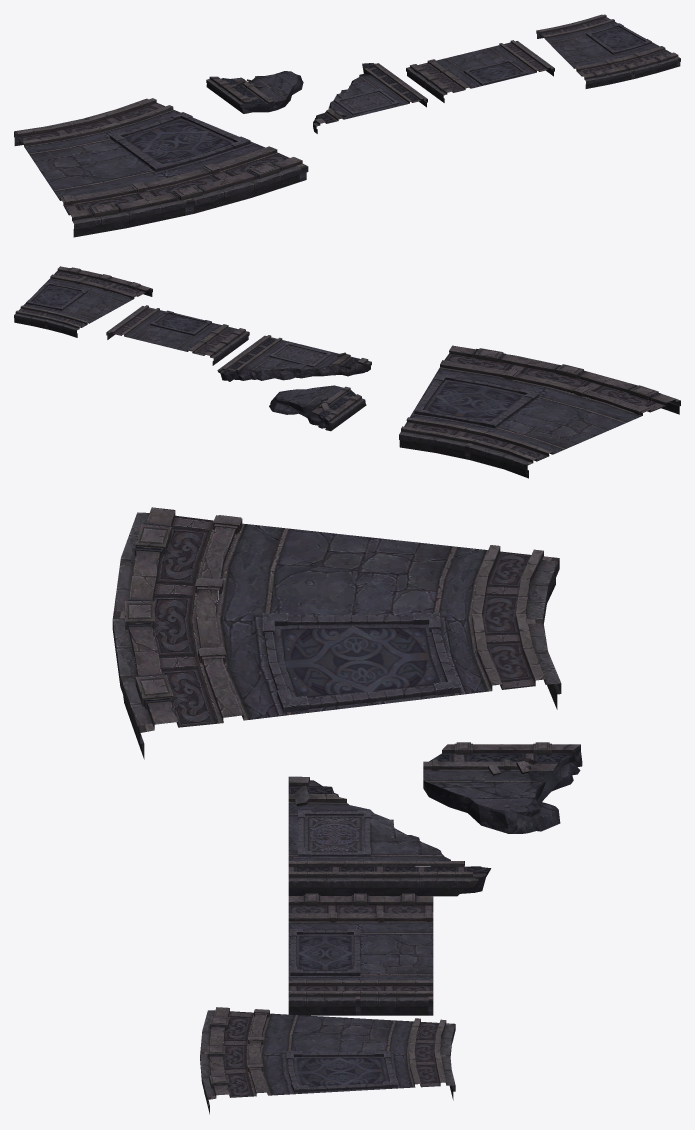
File: 2_BTT_HuanXingDiBiao_03.FBX
3 views of the same model, one above another, from view 1: azimuth 30°, elevation 25°; view 2: azimuth 150°, elevation 25°; view 3: azimuth 270°, elevation 25° (orthographic). The views are drawn at different scales.
Visible parts, largest first — view 1: 2_BTT_HuanXingDiBiao_03, 2_BTT_HuanXingDiBiao_03_02, 2_BTT_HuanXingDiBiao_03_03, 2_BTT_HuanXingDiBiao_03_04, 2_BTT_HuanXingDiBiao_03_05; view 2: 2_BTT_HuanXingDiBiao_03, 2_BTT_HuanXingDiBiao_03_02, 2_BTT_HuanXingDiBiao_03_04, 2_BTT_HuanXingDiBiao_03_03, 2_BTT_HuanXingDiBiao_03_05; view 3: 2_BTT_HuanXingDiBiao_03, 2_BTT_HuanXingDiBiao_03_02, 2_BTT_HuanXingDiBiao_03_03, 2_BTT_HuanXingDiBiao_03_04, 2_BTT_HuanXingDiBiao_03_05.
Part boxes in pixels (box(x1,y1,x2,y2)): 2_BTT_HuanXingDiBiao_03: box(14, 98, 308, 237); 2_BTT_HuanXingDiBiao_03_02: box(536, 14, 680, 88); 2_BTT_HuanXingDiBiao_03_03: box(406, 40, 554, 102); 2_BTT_HuanXingDiBiao_03_04: box(313, 63, 427, 133); 2_BTT_HuanXingDiBiao_03_05: box(206, 71, 303, 113); 2_BTT_HuanXingDiBiao_03: box(399, 345, 680, 478); 2_BTT_HuanXingDiBiao_03_02: box(14, 266, 152, 337); 2_BTT_HuanXingDiBiao_03_04: box(217, 335, 371, 381); 2_BTT_HuanXingDiBiao_03_03: box(106, 305, 249, 365); 2_BTT_HuanXingDiBiao_03_05: box(269, 385, 366, 431); 2_BTT_HuanXingDiBiao_03: box(112, 507, 561, 759); 2_BTT_HuanXingDiBiao_03_02: box(200, 1007, 455, 1114); 2_BTT_HuanXingDiBiao_03_03: box(288, 893, 433, 1015); 2_BTT_HuanXingDiBiao_03_04: box(288, 776, 491, 896); 2_BTT_HuanXingDiBiao_03_05: box(423, 742, 582, 833).
Size of the model in its own units: 8741 by 283 by 2954.
